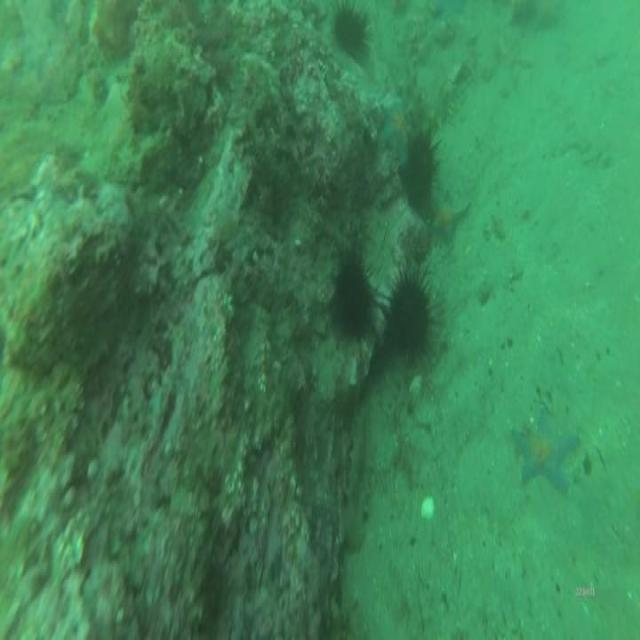echinus: (390, 275, 431, 351), (403, 131, 438, 207), (338, 268, 376, 332), (335, 8, 368, 52)
holothurian: (347, 411, 372, 550)
starfish: (515, 411, 573, 490), (432, 192, 457, 244)
